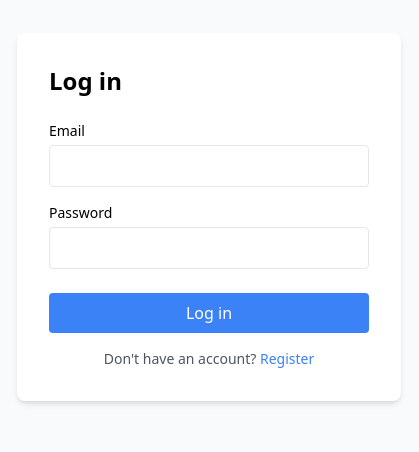
LoginPage › should show error when login fails
Type "a@b.com" into the field labelled "Email".
click(209, 166); type("a@b.com")  # box [49,145,369,187]
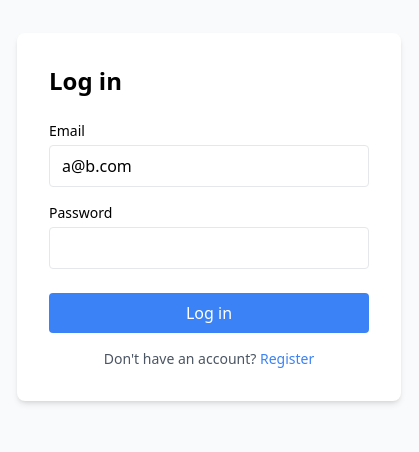
Type "wrong" into the password field labelled "Password".
click(209, 248); type("wrong")  # box [49,227,369,269]
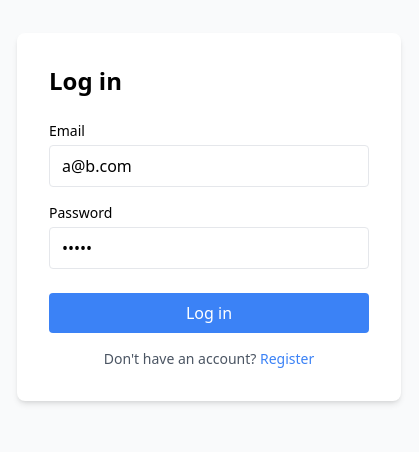
Click the button "Log in".
click(209, 313)  # box [49,293,369,333]
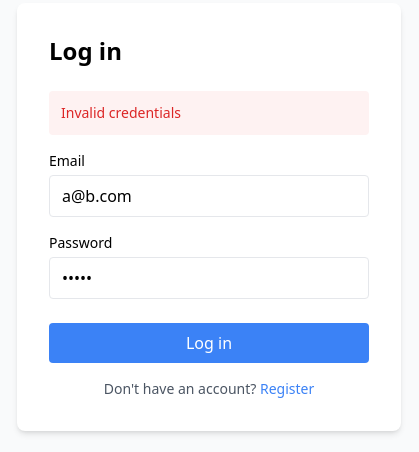
Expected: the text "Invalid credentials" is shown, [49,91,369,135]
